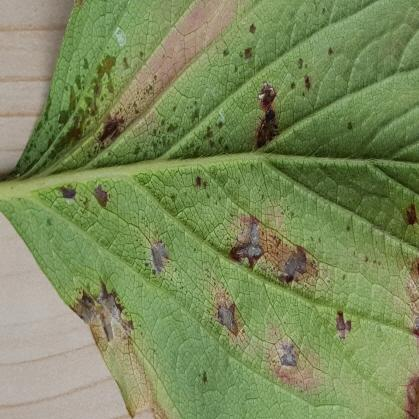Angular Leafspot: (3, 0, 418, 418)
